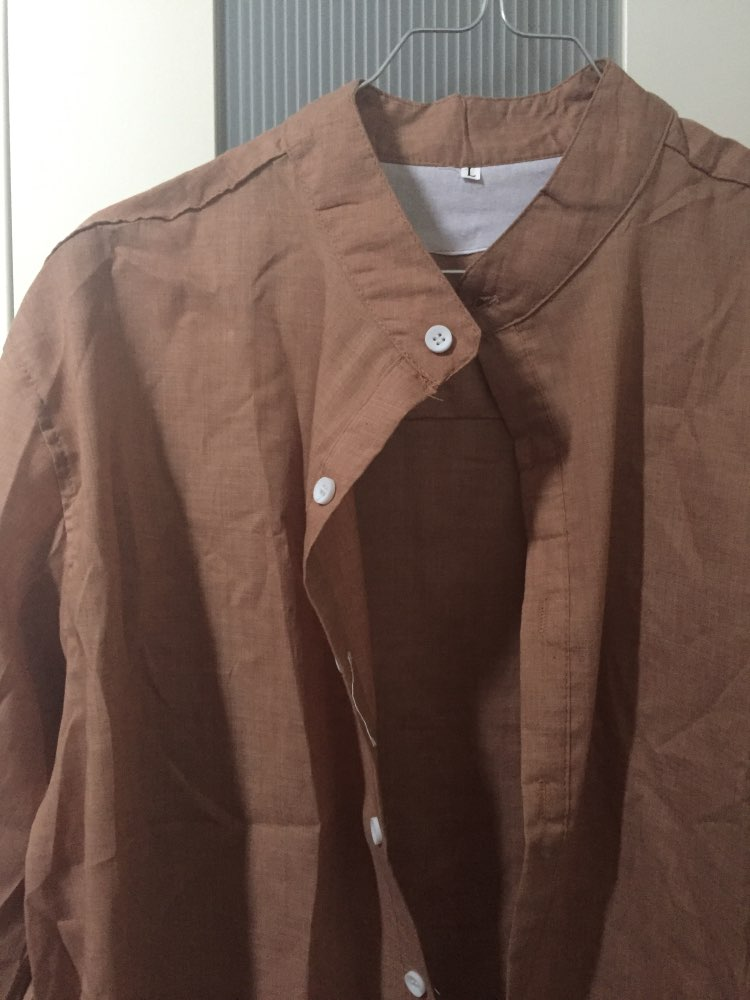shirts: (47, 61, 750, 959)
